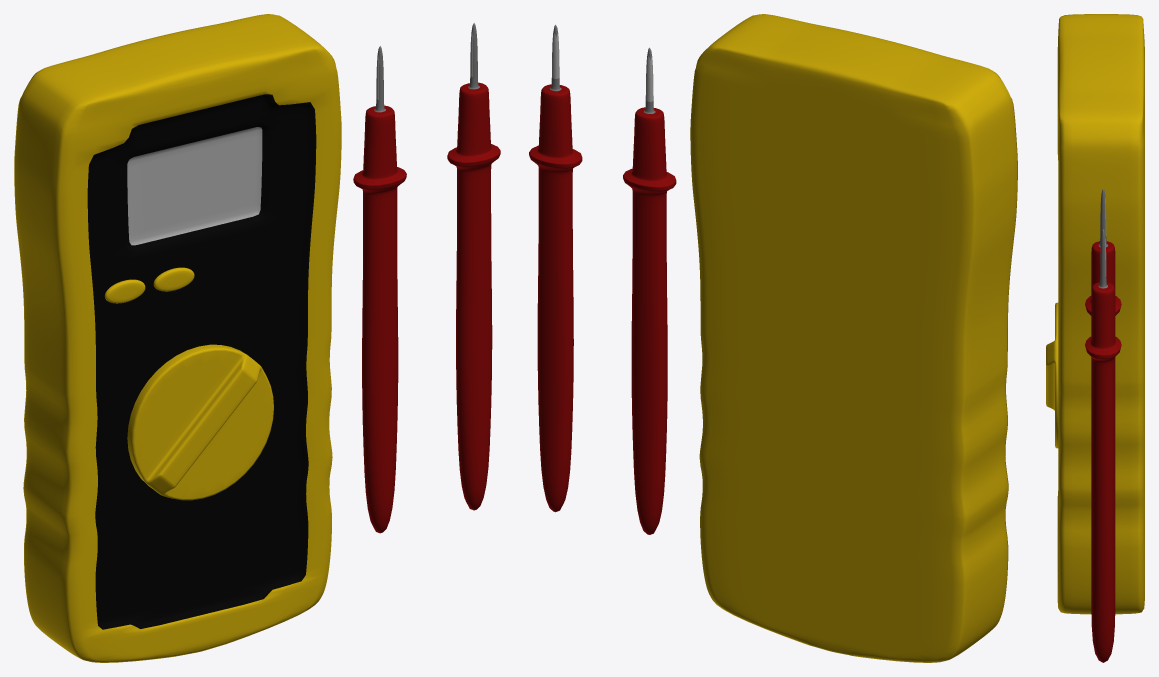
File: Multi_Meter.fbx
3 renders of one model, left to right at view 1: azimuth 30°, elevation 25°; view 2: azimuth 150°, elevation 25°; view 3: azimuth 270°, elevation 25°, orthographic. The views are drawn at different scales.
Visible parts, largest first — view 1: Multi_Meter_Smooth, Dial, Needle1, Needle2, Right_Button, Left_Button; view 2: Multi_Meter_Smooth, Needle1, Needle2; view 3: Multi_Meter_Smooth, Needle2, Needle1, Dial.
Boxes of the visible parts, x1,y1,x2,y2 form: Multi_Meter_Smooth: [14, 14, 341, 662]; Dial: [127, 344, 273, 500]; Needle1: [353, 46, 406, 533]; Needle2: [447, 23, 500, 510]; Right_Button: [153, 267, 194, 291]; Left_Button: [104, 279, 145, 303]; Multi_Meter_Smooth: [690, 14, 1017, 662]; Needle1: [623, 47, 676, 534]; Needle2: [529, 24, 582, 512]; Multi_Meter_Smooth: [1057, 14, 1144, 614]; Needle2: [1085, 229, 1121, 662]; Needle1: [1085, 188, 1121, 315]; Dial: [1046, 302, 1058, 448].
Size of the model in its own units: 5.75 by 6.91 by 1.19.
